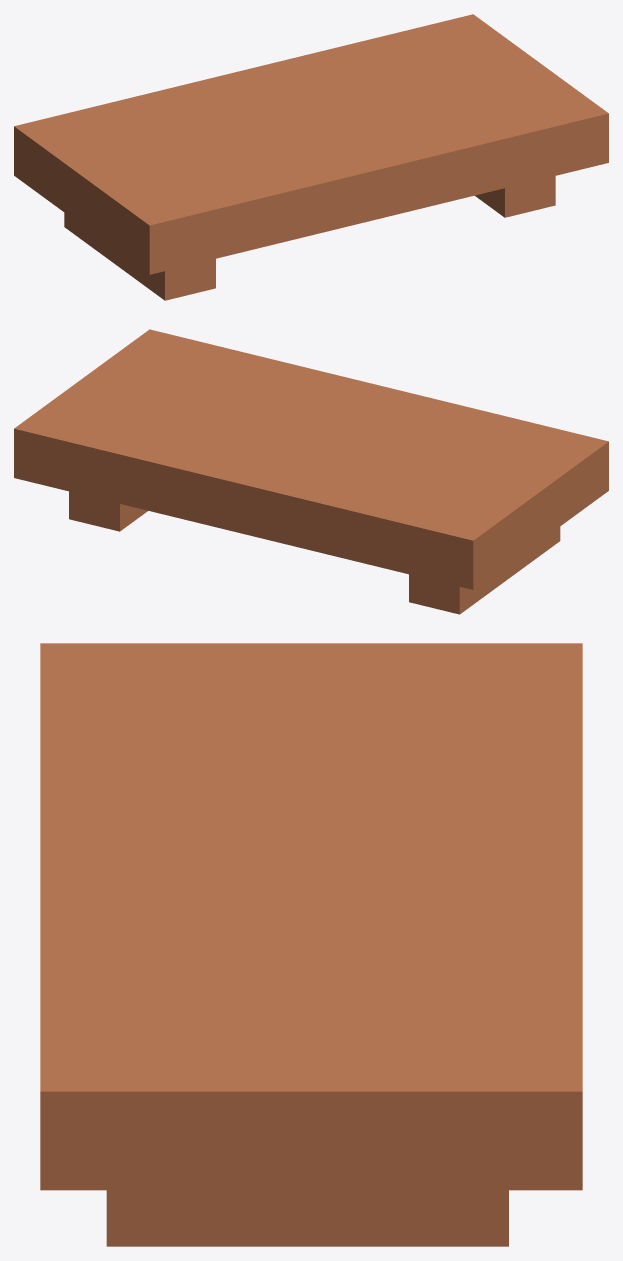
File: Chair 1.fbx
3 renders of one model, top to bottom at view 1: azimuth 30°, elevation 25°; view 2: azimuth 150°, elevation 25°; view 3: azimuth 270°, elevation 25°, orthographic. The views are drawn at different scales.
Visible parts, largest first — view 1: Chair; view 2: Chair; view 3: Chair.
Part boxes in pixels (bbox=[...]): Chair: bbox=[14, 14, 608, 300]; Chair: bbox=[14, 329, 608, 614]; Chair: bbox=[40, 643, 582, 1246].
Bounding box in the file's own units: 401 × 79.41 × 205.
